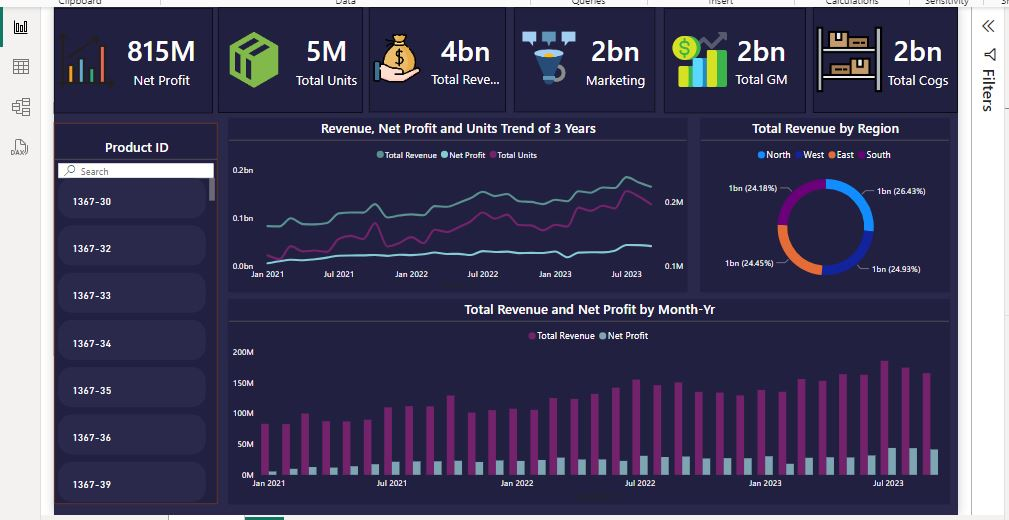

This screenshot's page, from the dashboard's own definition file:
{"tool":"powerbi","page":{"name":"Page 1","canvas":[1280,720],"ordinal":0},"visuals":[{"type":"shape","box":[0,1.4,225.4,148.8],"z":4750},{"type":"shape","box":[231.8,0,204.9,149.5],"z":4875},{"type":"shape","box":[446.5,0,194.2,148.8],"z":4937},{"type":"shape","box":[652,0,199.8,148.8],"z":4968},{"type":"shape","box":[864.6,1.4,201.3,148.8],"z":4984},{"type":"shape","box":[1075.1,0,204.9,149.5],"z":4992},{"type":"lineChart","title":"Revenue, Net Profit and Units Trend of 3 Years ","fields":{"Y":["Calender.Total Revenue","Calender.Net Profit"],"Category":["Calender.Month-Yr"],"Y2":["Calender.Total Units"]},"box":[246.6,157.3,650.6,246.6],"z":6000},{"type":"clusteredColumnChart","fields":{"Category":["Calender.Month-Yr"],"Y":["Calender.Total Revenue","Calender.Net Profit"]},"box":[246.6,413.9,1023.3,290.6],"z":7000},{"type":"donutChart","fields":{"Y":["Calender.Total Revenue"],"Category":["Sales.Region"]},"box":[915.6,157.3,354.3,246.6],"z":8000},{"type":"advancedSlicerVisual","fields":{"Values":["Master.Product ID"]},"box":[0,164.4,232.4,540],"z":9000},{"type":"card","fields":{"Values":["Calender.Total Revenue"]},"box":[525.8,0,114.8,146],"z":9001},{"type":"card","fields":{"Values":["Calender.Net Profit"]},"box":[79.4,1.4,146,144.6],"z":9002},{"type":"card","fields":{"Values":["Calender.Total Marketing"]},"box":[739.8,1.4,112,144.6],"z":9003},{"type":"card","fields":{"Values":["Calender.Total GM"]},"box":[939.7,0,126.1,146],"z":9004},{"type":"card","fields":{"Values":["Calender.Total Units"]},"box":[334.5,1.4,103.5,144.6],"z":9005},{"type":"card","fields":{"Values":["Calender.Total Cogs"]},"box":[1169.3,1.4,110.6,144.6],"z":9006},{"type":"image","box":[232.4,2.8,102,143.1],"z":9007},{"type":"image","box":[446.5,0,79.4,146],"z":9008},{"type":"image","box":[0,1.4,90.7,148.8],"z":9009},{"type":"image","box":[652,0,99.2,146],"z":9010},{"type":"image","box":[864.6,2.8,100.6,143.1],"z":9011},{"type":"image","box":[1075.7,2.8,103.5,143.1],"z":9012}]}

Visuals, with their boxes on the page's 1280x720 design canvas (x1, y1, x2, y2). These are canvas units, not pixel positions in the 1009x520 screenshot, which may show the page scaled, cropped or inside an application window:
shape: crop(0, 1, 225, 150)
shape: crop(232, 0, 437, 150)
shape: crop(446, 0, 641, 149)
shape: crop(652, 0, 852, 149)
shape: crop(865, 1, 1066, 150)
shape: crop(1075, 0, 1280, 150)
"Revenue, Net Profit and Units Trend of 3 Years " lineChart: crop(247, 157, 897, 404)
clusteredColumnChart - Calender.Month-Yr x Calender.Total Revenue: crop(247, 414, 1270, 704)
donutChart - Calender.Total Revenue x Sales.Region: crop(916, 157, 1270, 404)
advancedSlicerVisual - Master.Product ID: crop(0, 164, 232, 704)
card - Calender.Total Revenue: crop(526, 0, 641, 146)
card - Calender.Net Profit: crop(79, 1, 225, 146)
card - Calender.Total Marketing: crop(740, 1, 852, 146)
card - Calender.Total GM: crop(940, 0, 1066, 146)
card - Calender.Total Units: crop(334, 1, 438, 146)
card - Calender.Total Cogs: crop(1169, 1, 1280, 146)
image: crop(232, 3, 334, 146)
image: crop(446, 0, 526, 146)
image: crop(0, 1, 91, 150)
image: crop(652, 0, 751, 146)
image: crop(865, 3, 965, 146)
image: crop(1076, 3, 1179, 146)
